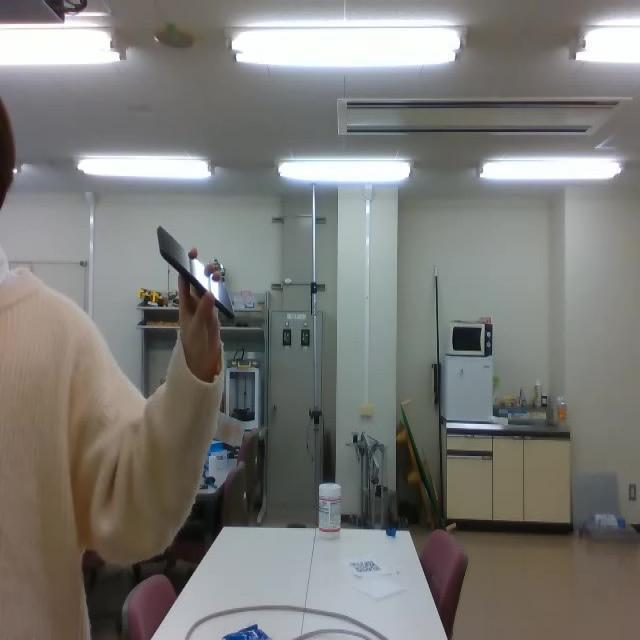Phone: (154, 222, 236, 322)
